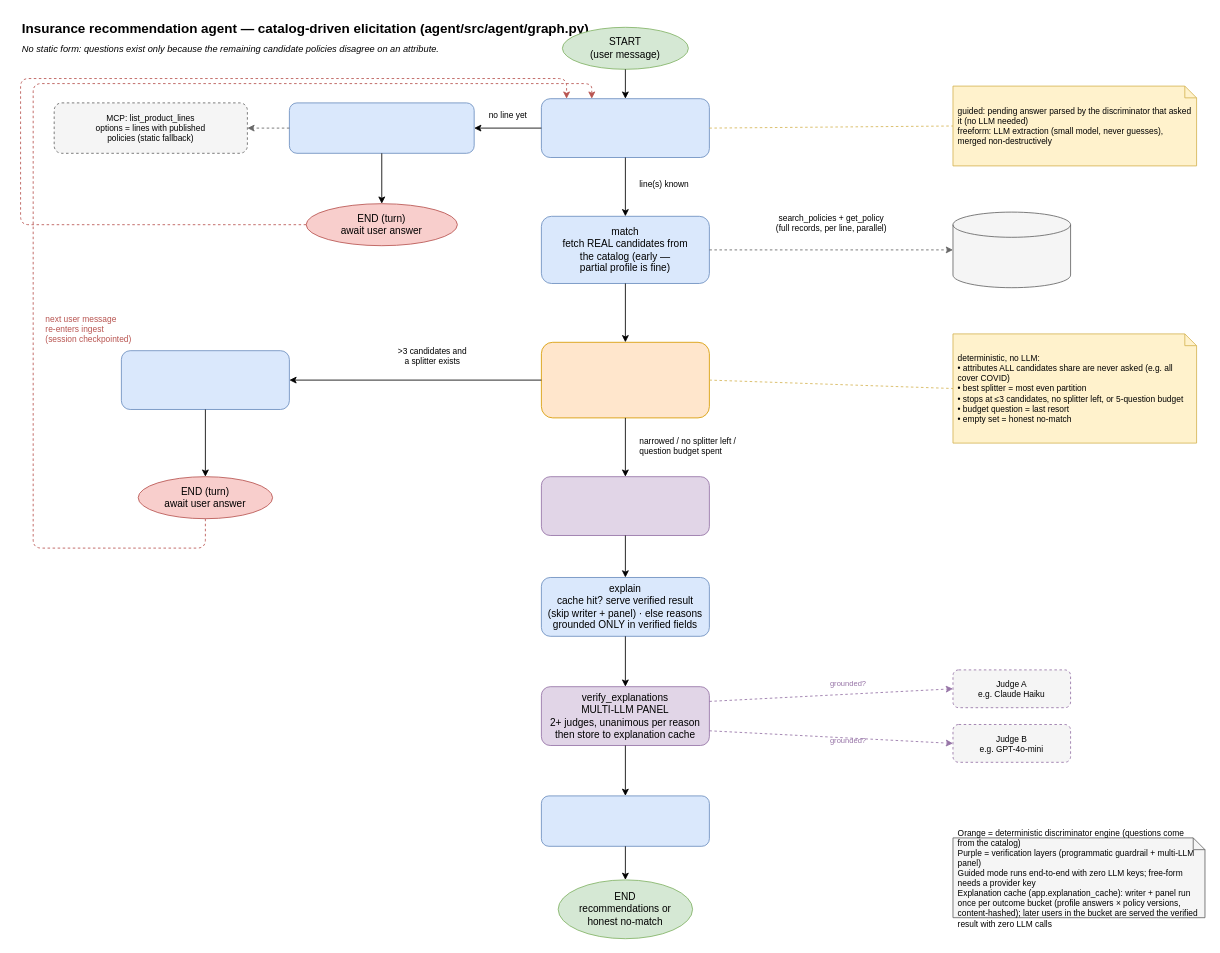
Some shapes in this 1220 by 953 pixel diagram are drawn without their labels. The centre of each missing label's shape, as x and y in pixels:
ask_bootstrap "What would you like to protect?": (x=381, y=127)
ask_question the ONE question that best splits remaining candidates: (x=205, y=380)
decide DISCRIMINATOR ENGINE narrow by answers, pick best-splitting question: (x=625, y=379)
ingest update NeedsProfile from message: (x=625, y=128)
MCP server policy-catalog :8002/mcp: (x=1011, y=249)
present structured payload + disclaimer: (x=625, y=820)
verify GUARDRAIL: age + budget checked vs actual fields: (x=625, y=506)
